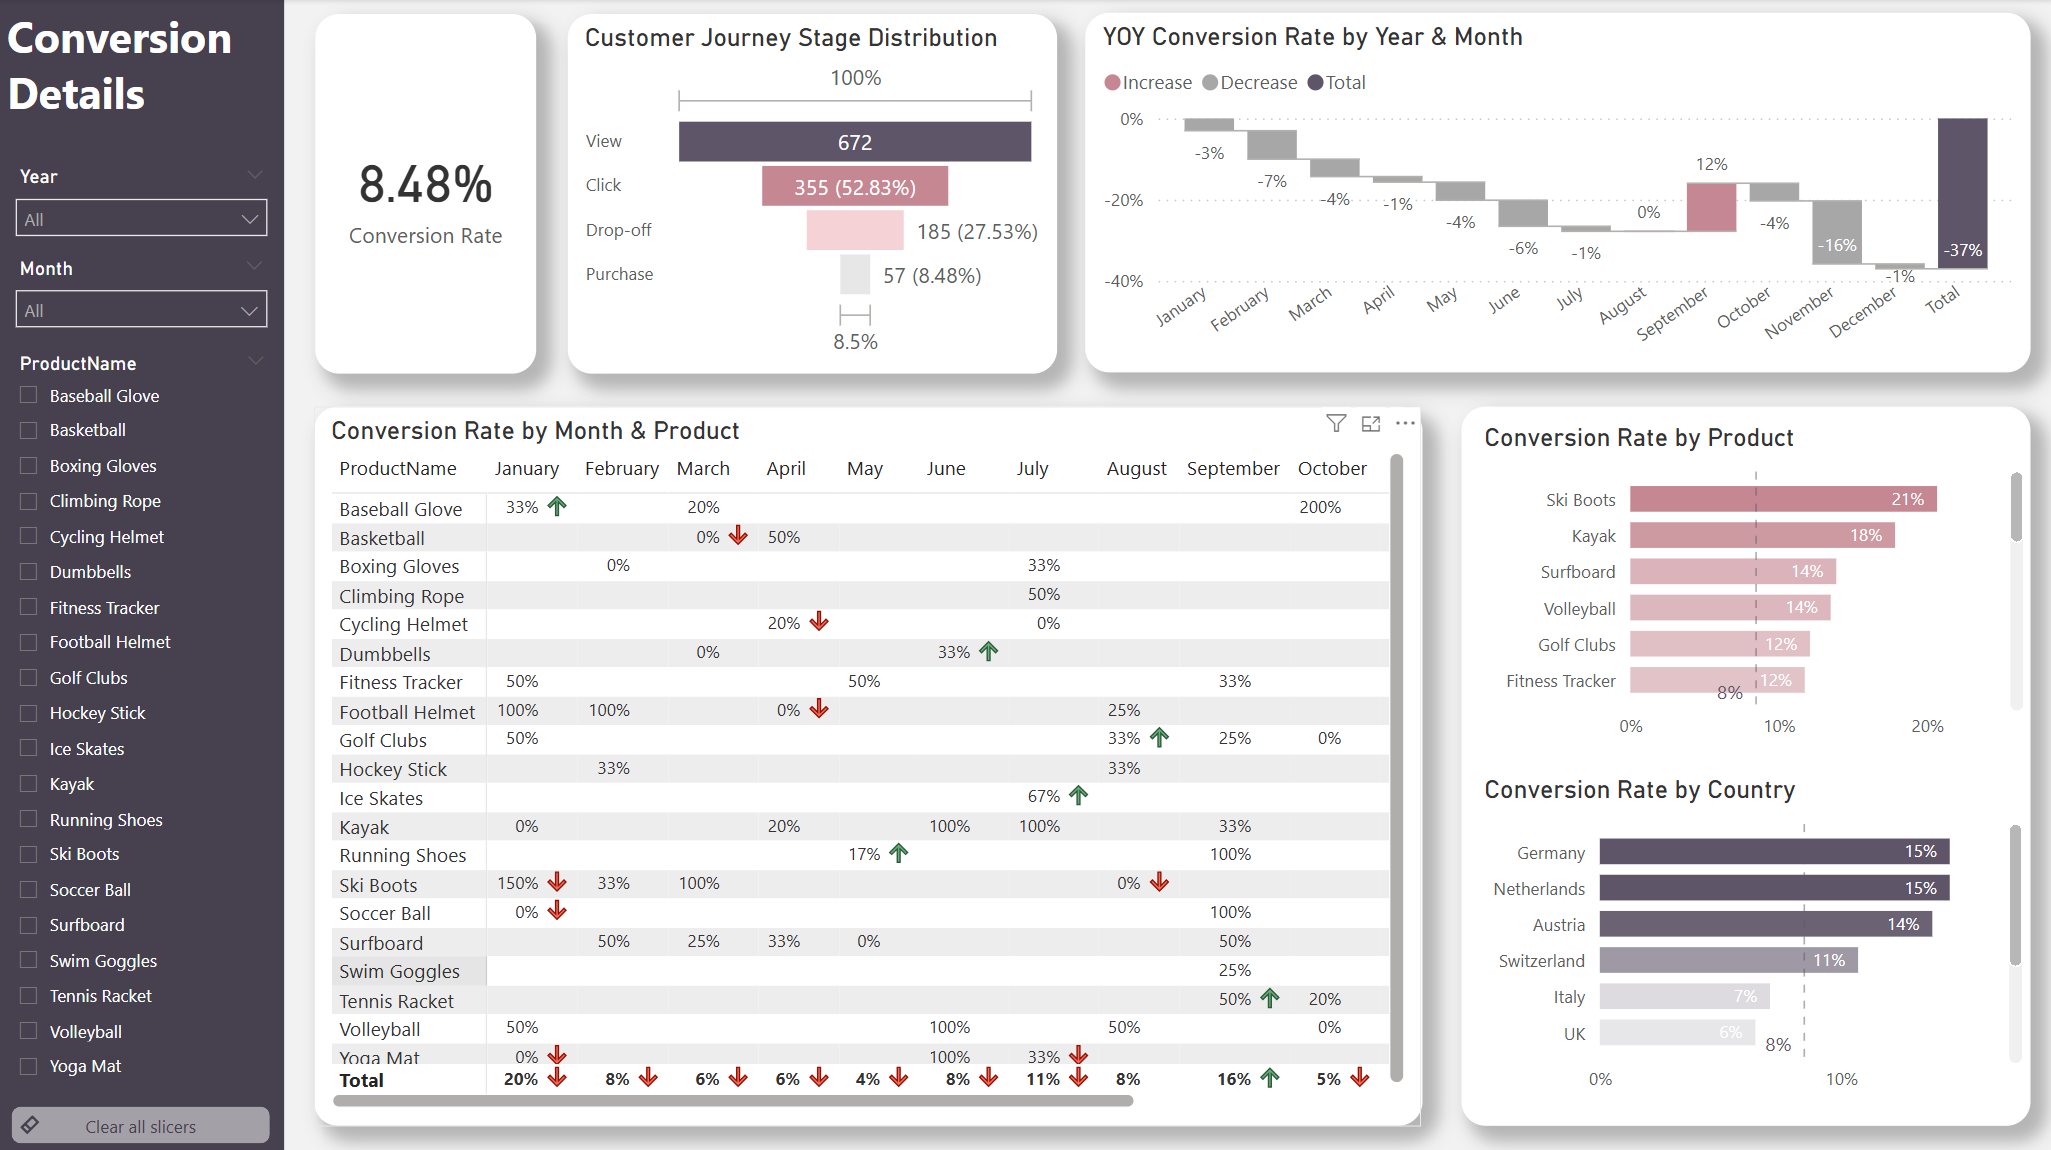

This screenshot's page, from the dashboard's own definition file:
{"tool":"powerbi","page":{"name":"Conversion Details","canvas":[1280,720],"ordinal":1},"visuals":[{"type":"textbox","box":[0,0,177.5,720],"z":0},{"type":"slicer","fields":{"Values":["dim_products.ProductName"]},"box":[0,215,178,487],"z":1000},{"type":"card","fields":{"Values":["_Calculations.Conversion Rate"]},"box":[197.3,9.1,137.3,223.6],"z":2000},{"type":"textbox","box":[911,254,354,448],"z":2500},{"type":"slicer","fields":{"Values":["Calendar.Year"]},"box":[0,99.2,177.5,68.3],"z":3000},{"type":"slicer","fields":{"Values":["Calendar.MonthNameLong"]},"box":[0,156,177,65],"z":4000},{"type":"barChart","title":"Conversion Rate by Product","fields":{"Category":["dim_products.ProductName"],"Y":["_Calculations.Conversion Rate"]},"box":[920,263.6,345.7,206.4],"z":5000},{"type":"pivotTable","title":"Conversion Rate by Month & Product","fields":{"Rows":["dim_products.ProductName"],"Values":["_Calculations.Conversion Rate"],"Columns":["Calendar.Date.Variation.Date Hierarchy.Month"]},"box":[196,254,690,448],"z":6000},{"type":"funnel","title":"Customer Journey Stage Distribution","fields":{"Category":["fact_customer_journey.Action"],"Y":["_Calculations.Number of Customer Journeys"]},"box":[354.5,9.1,304.5,223.6],"z":7000},{"type":"waterfallChart","title":"YOY Conversion Rate by Year & Month","fields":{"Y":["_Calculations.Conversion Rate (YTD vs PYTD)"],"Category":["Calendar.Date.Variation.Date Hierarchy.Year","Calendar.Date.Variation.Date Hierarchy.Month"]},"box":[676.2,8.7,588.9,223.8],"z":8000},{"type":"barChart","title":"Conversion Rate by Country","fields":{"Y":["_Calculations.Conversion Rate"],"Category":["dim_customers.Country"]},"box":[920,483.6,345,206.4],"z":9000},{"type":"actionButton","box":[8,690,161,23],"z":11000}]}

Visuals, with their boxes in screenshot pixels (x1, y1, x2, y2), scaled from the page's 1280x720 canvas onto the 2051x1150 screenshot:
textbox: (x1=0, y1=0, x2=284, y2=1149)
slicer - dim_products.ProductName: (x1=0, y1=343, x2=285, y2=1121)
card - _Calculations.Conversion Rate: (x1=316, y1=15, x2=536, y2=372)
textbox: (x1=1460, y1=406, x2=2027, y2=1121)
slicer - Calendar.Year: (x1=0, y1=158, x2=284, y2=268)
slicer - Calendar.MonthNameLong: (x1=0, y1=249, x2=284, y2=353)
"Conversion Rate by Product" barChart: (x1=1474, y1=421, x2=2028, y2=751)
"Conversion Rate by Month & Product" pivotTable: (x1=314, y1=406, x2=1420, y2=1121)
"Customer Journey Stage Distribution" funnel: (x1=568, y1=15, x2=1056, y2=372)
"YOY Conversion Rate by Year & Month" waterfallChart: (x1=1084, y1=14, x2=2027, y2=371)
"Conversion Rate by Country" barChart: (x1=1474, y1=772, x2=2027, y2=1102)
actionButton: (x1=13, y1=1102, x2=271, y2=1139)
